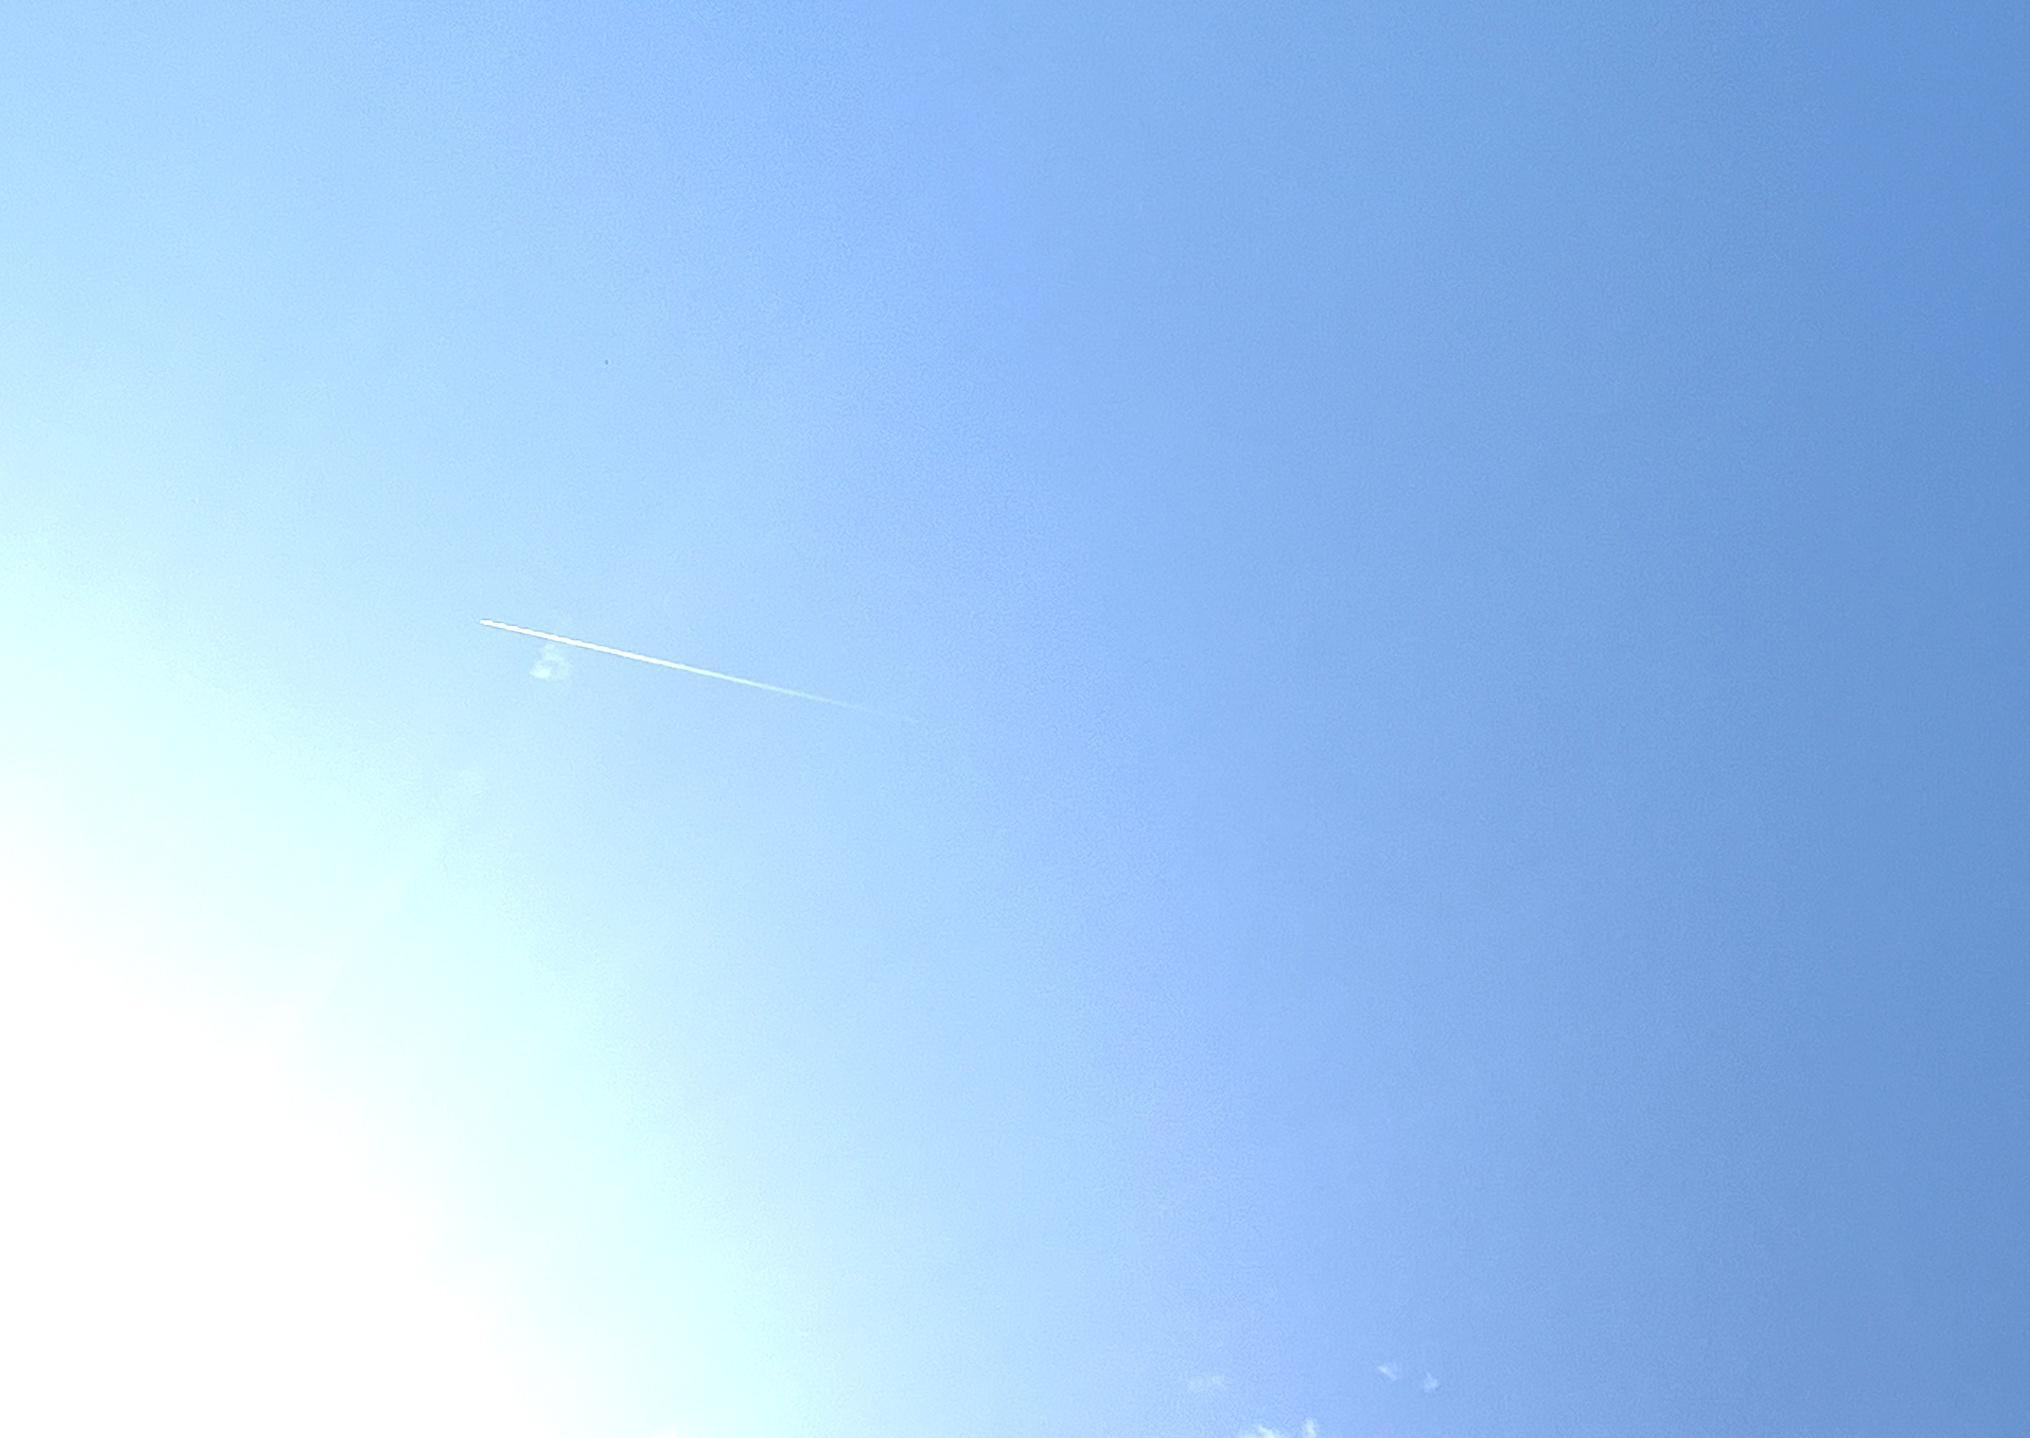Plane: (454, 602, 863, 719)
